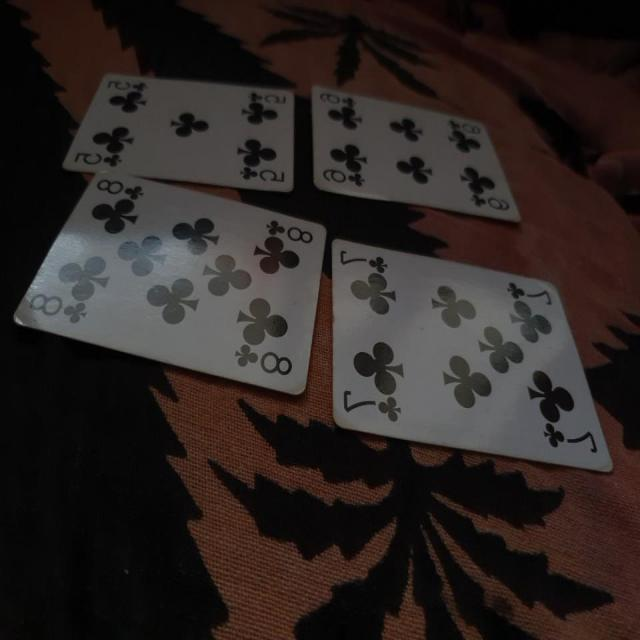5 of clubs: (56, 71, 296, 196)
6 of clubs: (310, 82, 522, 224)
7 of clubs: (331, 240, 616, 478)
8 of clubs: (11, 172, 328, 394)
